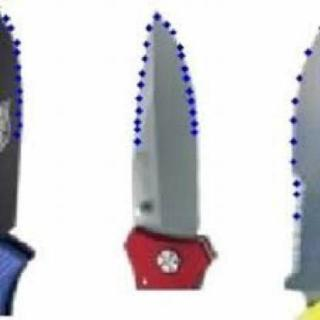knife: (104, 12, 234, 268)
